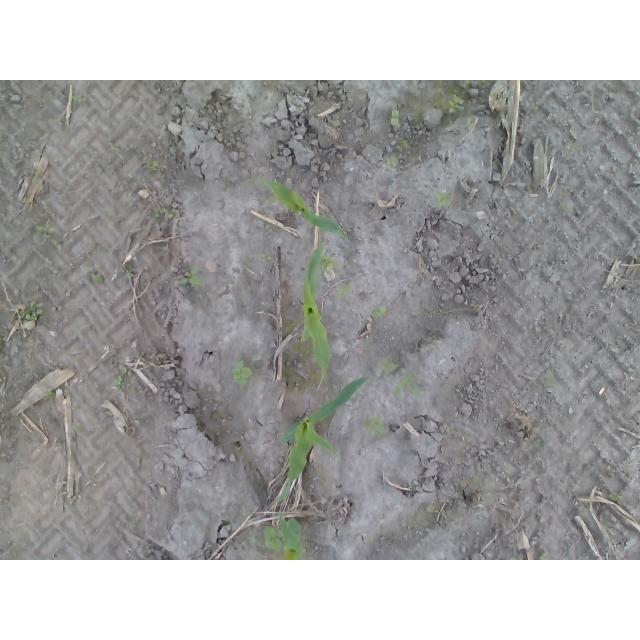Maize: (276, 376, 368, 505), (246, 177, 347, 241), (299, 241, 332, 380), (282, 516, 306, 560)
Weeds: (34, 224, 62, 249), (392, 374, 420, 399), (232, 359, 254, 386), (262, 524, 283, 552), (177, 264, 202, 287), (18, 300, 43, 321), (111, 365, 128, 388), (431, 189, 450, 209), (367, 414, 386, 434), (447, 94, 466, 114), (378, 355, 395, 373), (144, 159, 161, 174), (319, 257, 335, 272), (256, 219, 273, 233), (159, 206, 178, 218), (390, 109, 401, 127), (91, 272, 106, 284), (336, 286, 353, 296), (462, 118, 474, 131), (608, 492, 623, 502), (399, 138, 410, 151), (386, 159, 399, 170), (535, 437, 546, 449), (108, 141, 121, 151), (374, 306, 384, 318), (71, 423, 81, 434), (125, 271, 136, 281), (540, 552, 553, 560), (532, 101, 541, 111), (263, 254, 273, 262), (46, 387, 54, 397), (510, 554, 523, 560), (71, 95, 81, 102), (448, 427, 457, 434)
